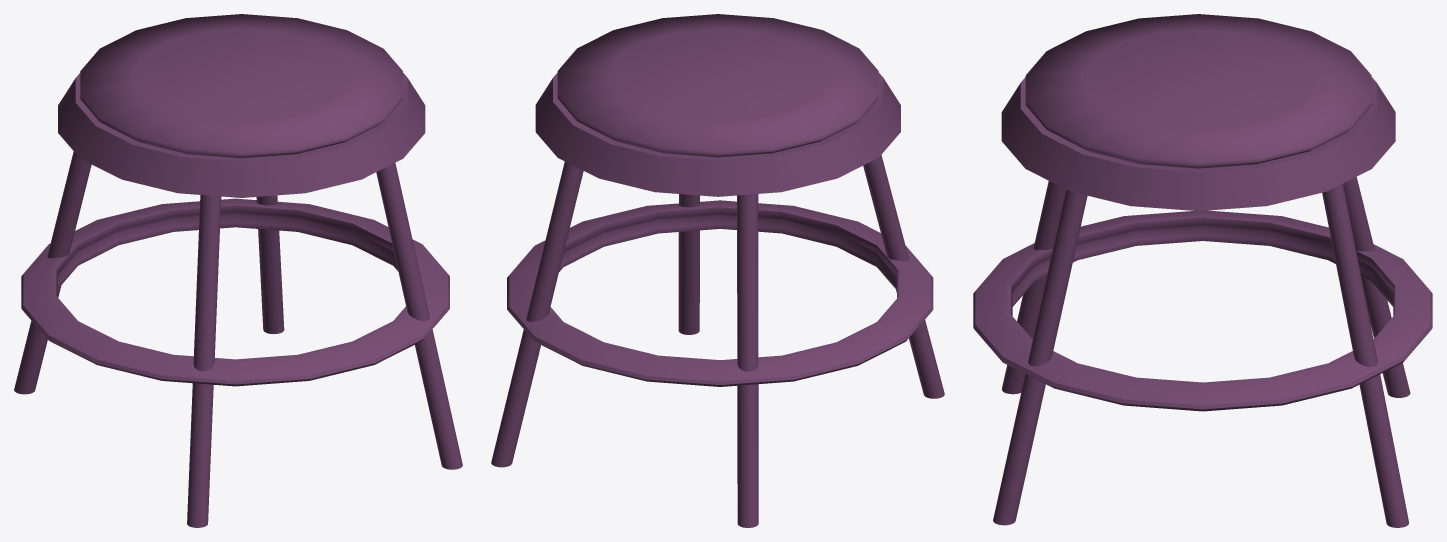
The model's file is StoolShort.fbx.
3 views of the same model, side by side, from view 1: azimuth 30°, elevation 25°; view 2: azimuth 150°, elevation 25°; view 3: azimuth 270°, elevation 25° (orthographic). The views are drawn at different scales.
Parts seen in each view (by area): view 1: Cylinder033; view 2: Cylinder033; view 3: Cylinder033.
Boxes of the visible parts, left/top/right/bottom form: Cylinder033: left=14, top=14, right=462, bottom=527; Cylinder033: left=491, top=14, right=944, bottom=527; Cylinder033: left=973, top=14, right=1432, bottom=527.
Bounding box in the file's own units: 23.25 × 22.89 × 21.15.
